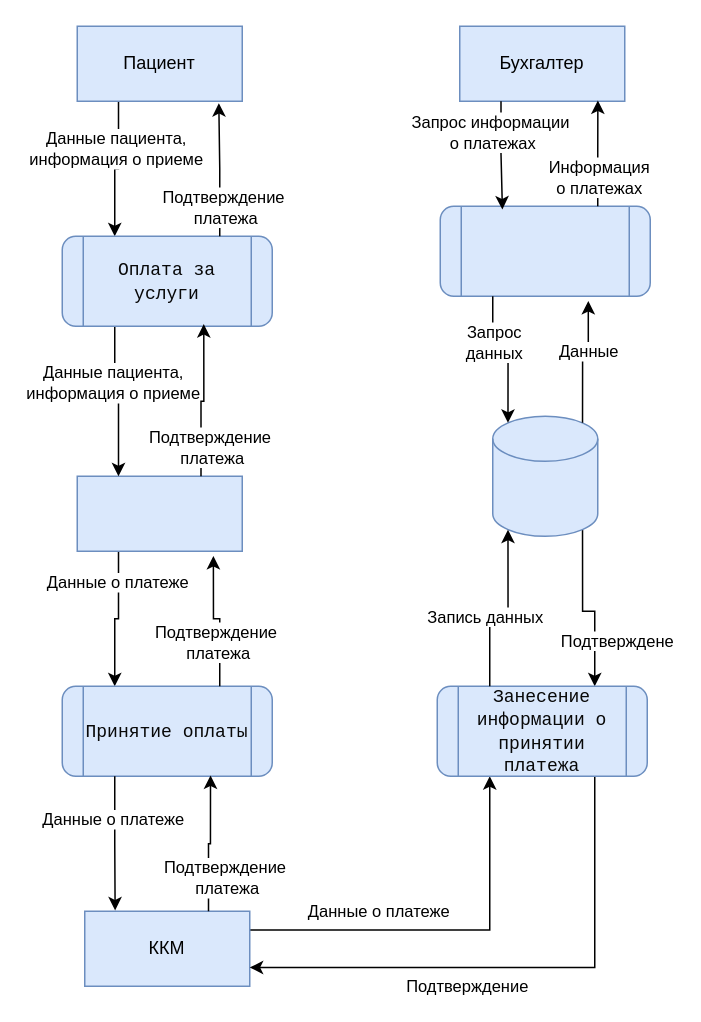
Image size: 701x1022. Some labels were removed from this diagram. Each missing label, with the centre of its shape:
"1С Бухгалтерия" goes at point 544,475.
"Кассир" goes at point 159,513.
"Процессинг платежей" goes at point 544,250.
